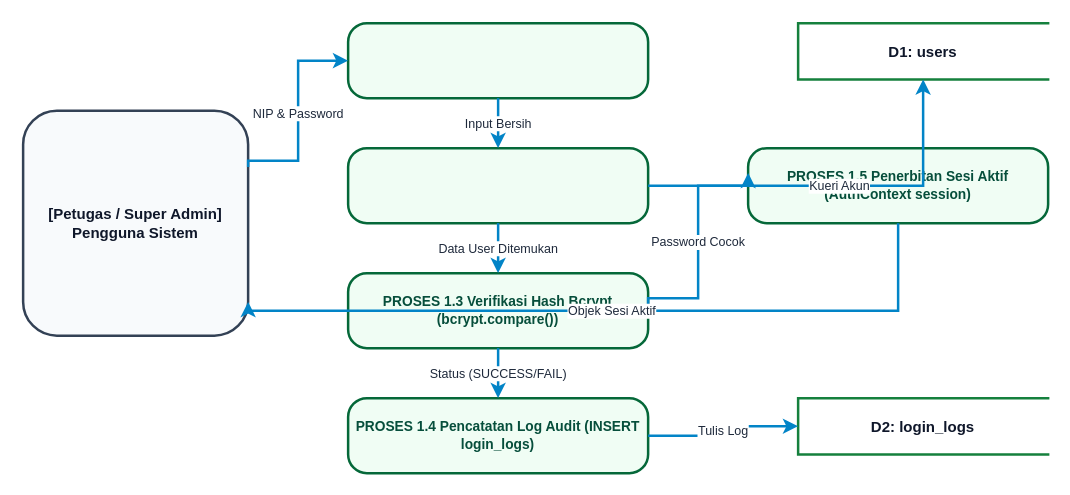
Image size: 1070x495. Some labels were removed from this diagram. Each missing label, with the centre of its shape:
PROSES 1.1 Validasi Kredensial (Format NIP & Password): point 497,60
PROSES 1.2 Pencarian Pengguna (SELECT WHERE nip=$1): point 497,185
